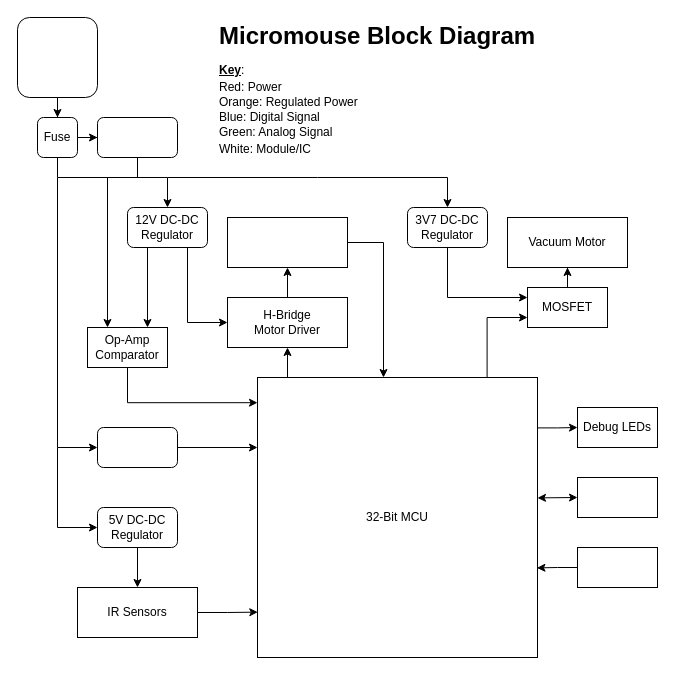
Some shapes in this 685 by 675 pixel diagram are drawn without their labels. Each missing label, with the box of its shape:
2S LiPo Battery: (16, 16, 98, 98)
3V3 DC-DC Regulator: (96, 426, 178, 468)
Brushed DC Motors w/ Encoders: (226, 216, 348, 268)
Bulk Cap: (96, 116, 178, 158)
JTAG: (576, 546, 658, 588)
USART Jumpers: (576, 476, 658, 518)
